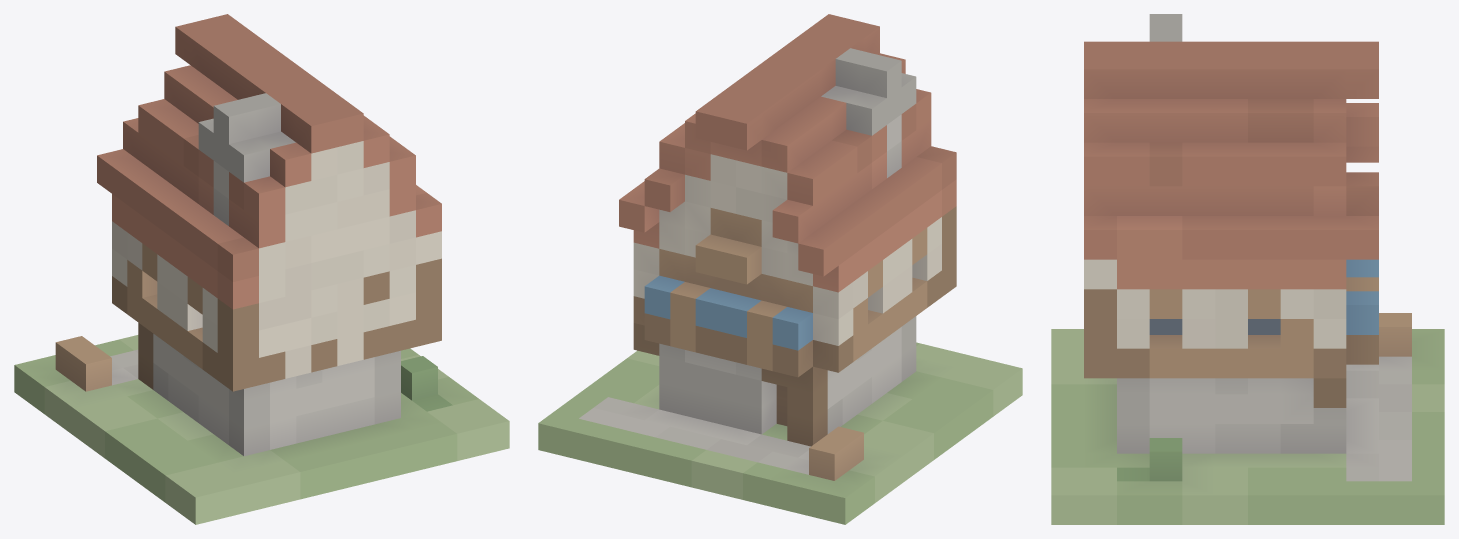
File: house_citizens.v1.lite.glb
3 views of the same model, side by side, from view 1: azimuth 30°, elevation 25°; view 2: azimuth 150°, elevation 25°; view 3: azimuth 270°, elevation 25° (orthographic). The views are drawn at different scales.
Visible parts, largest first — view 1: house_citizens; view 2: house_citizens; view 3: house_citizens.
Boxes of the visible parts, x1,y1,x2,y2 form: house_citizens: [14, 14, 509, 524]; house_citizens: [538, 14, 1022, 524]; house_citizens: [1051, 14, 1444, 524].
Size of the model in its own units: 3 by 3.25 by 3.
